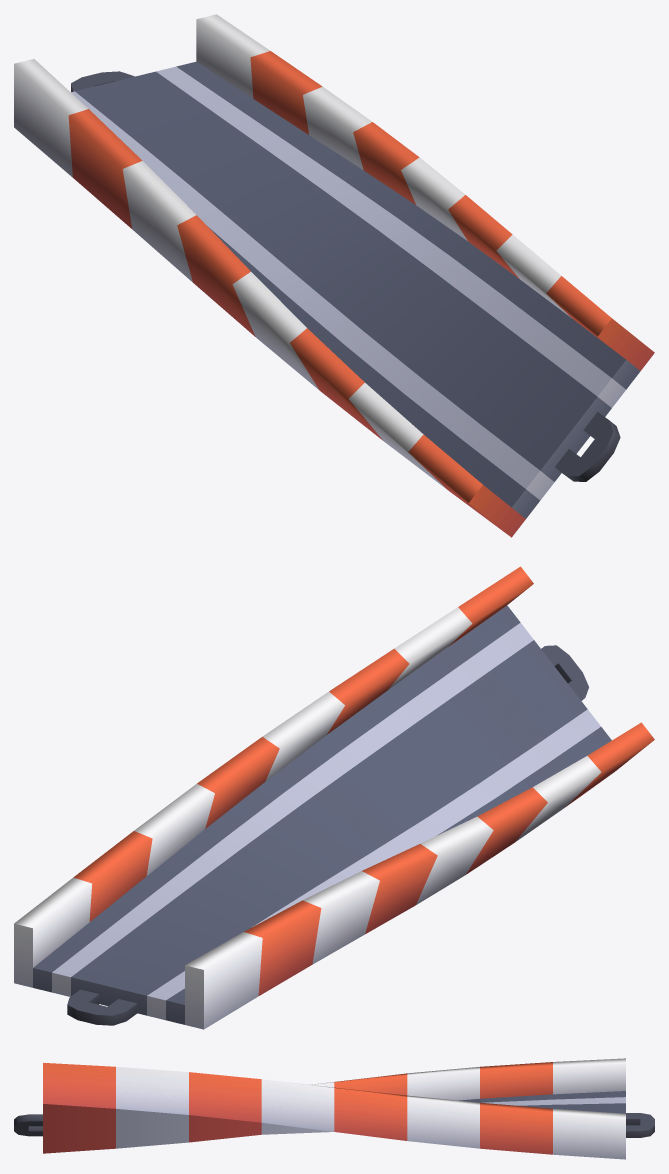
The model's file is track-road-narrow-straight-skew-right.glb.
The picture shows the model from 3 angles, top to bottom: view 1: azimuth 30°, elevation 25°; view 2: azimuth 150°, elevation 25°; view 3: azimuth 270°, elevation 25°; orthographic projection. The views are drawn at different scales.
Visible parts, largest first — view 1: track-road-narrow-straight-skew-right; view 2: track-road-narrow-straight-skew-right; view 3: track-road-narrow-straight-skew-right.
Boxes of the visible parts, x1=… form: track-road-narrow-straight-skew-right: x1=14, y1=14, x2=654, y2=537; track-road-narrow-straight-skew-right: x1=14, y1=566, x2=654, y2=1029; track-road-narrow-straight-skew-right: x1=14, y1=1058, x2=654, y2=1159.
Bounding box in the file's own units: 1.08 × 0.9193 × 4.4.
Materials: 1 (1 with a texture image).
